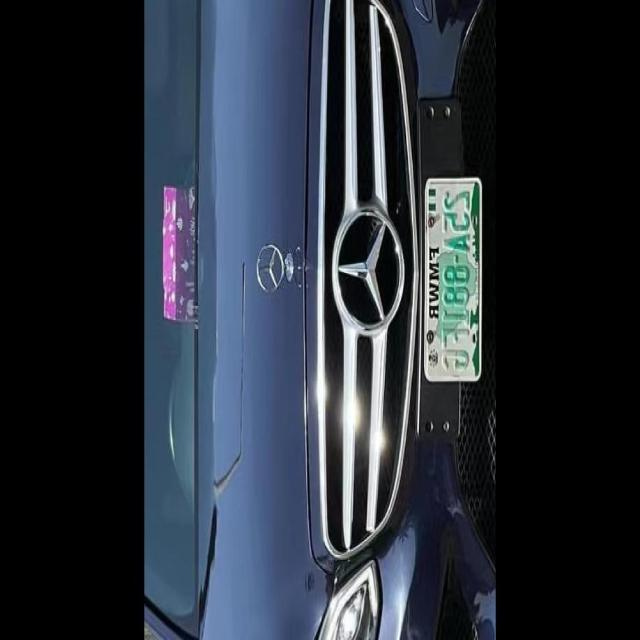Nigerian License Plate - vdataset benjamin-daria: (422, 174, 486, 386)
